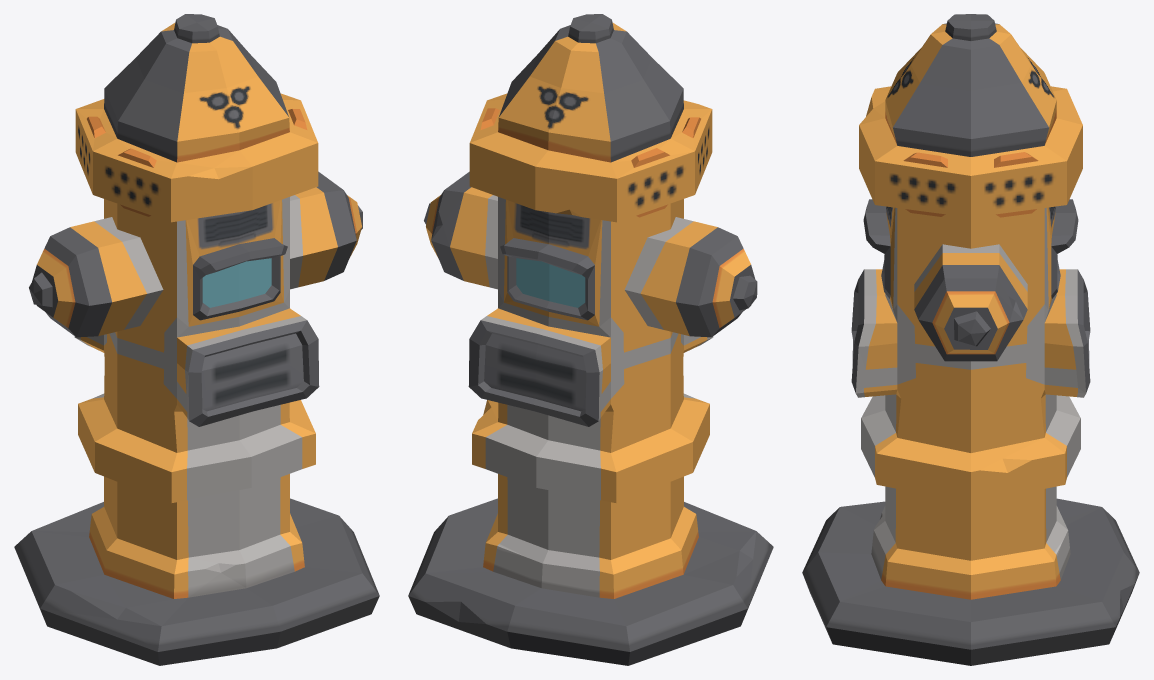
The model's file is SM_Prop_Fire_Hydrant_01.fbx.
The picture shows the model from 3 angles, left to right: view 1: azimuth 30°, elevation 25°; view 2: azimuth 150°, elevation 25°; view 3: azimuth 270°, elevation 25°; orthographic projection.
Visible parts, largest first — view 1: SM_Prop_Fire_Hydrant_01; view 2: SM_Prop_Fire_Hydrant_01; view 3: SM_Prop_Fire_Hydrant_01.
Boxes of the visible parts, x1,y1,x2,y2 form: SM_Prop_Fire_Hydrant_01: (14, 14, 379, 665); SM_Prop_Fire_Hydrant_01: (408, 14, 773, 665); SM_Prop_Fire_Hydrant_01: (802, 14, 1139, 665).
Bounding box in the file's own units: 61.64 × 103 × 55.01.
